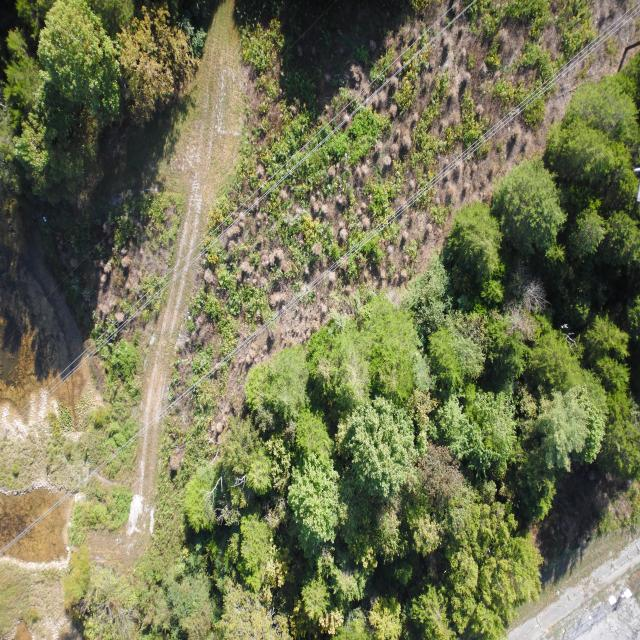Area of Interest: (211, 99, 634, 636), (16, 0, 115, 148)
